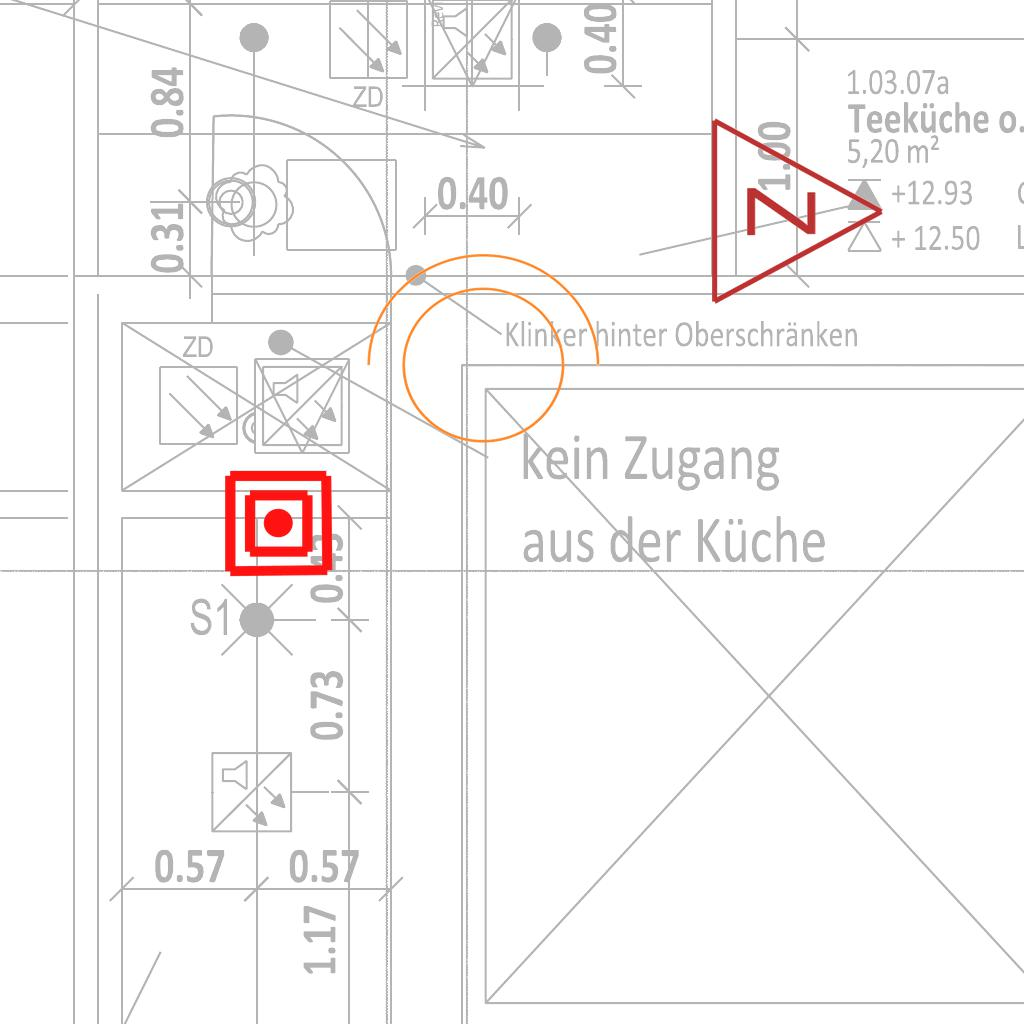NAM-Nichtautomatischer_Melder: (222, 467, 335, 580)
Scheinwerfer_fuer_Alarmbeleuchtung: (345, 243, 609, 468)
Zimmersignalleuchte: (697, 111, 897, 307)
